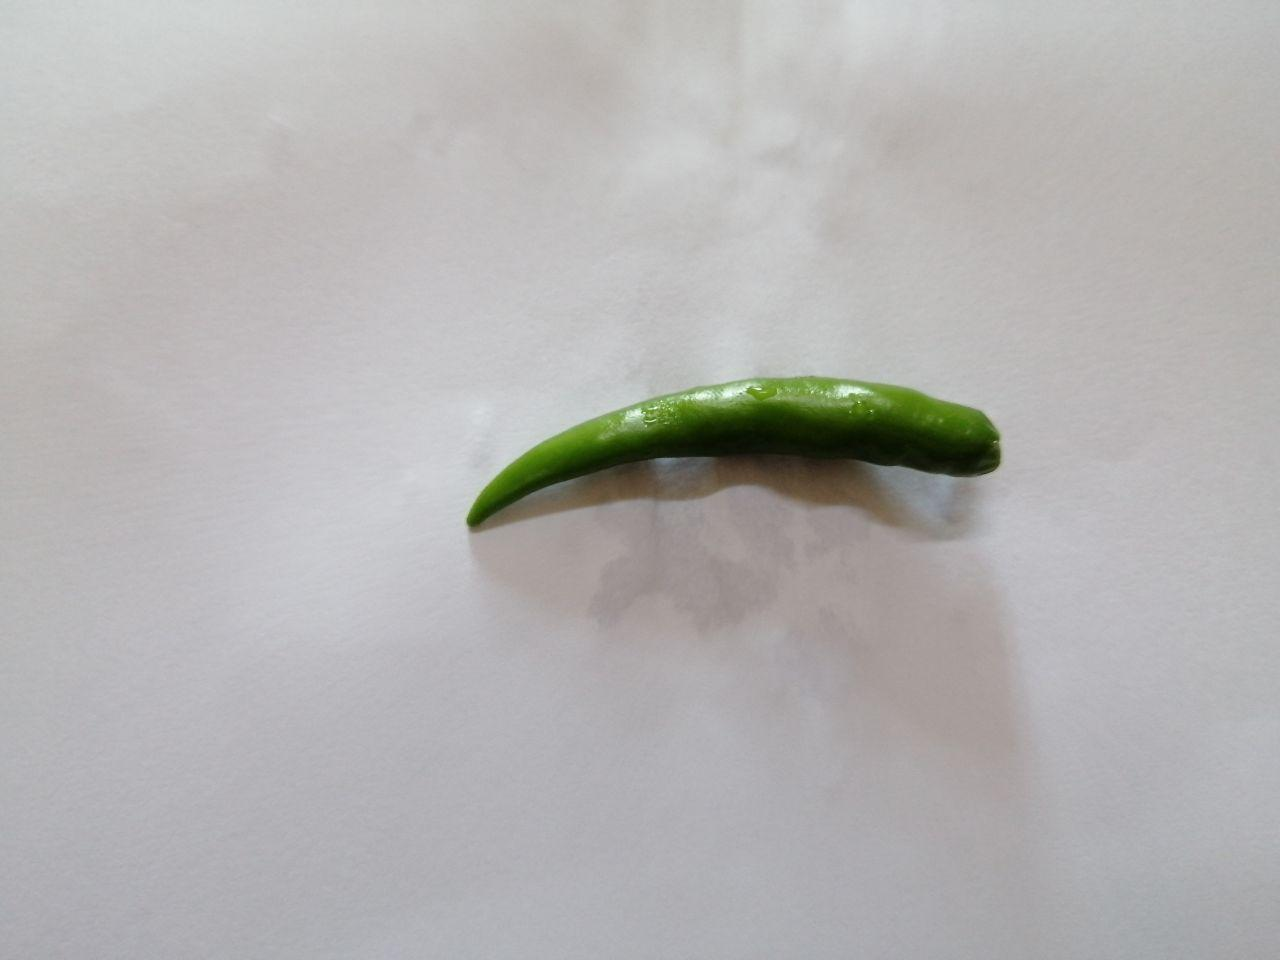lada hijau: (443, 356, 1028, 555)
